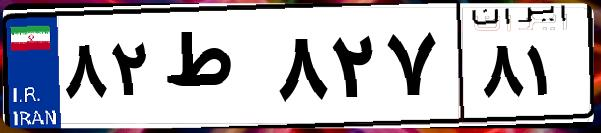1: (525, 38, 570, 115)
2: (330, 28, 385, 110), (110, 28, 158, 98)
7: (385, 28, 445, 110)
8: (270, 28, 330, 110), (57, 26, 110, 100), (475, 38, 525, 113)
ط: (158, 20, 270, 120)
